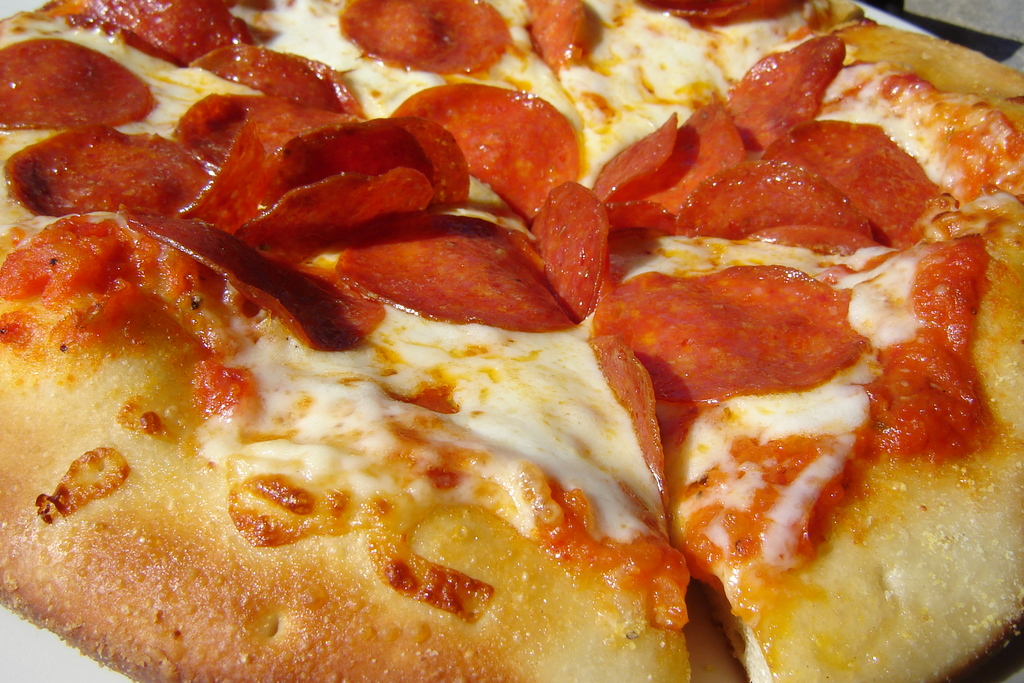Pizza: (0, 0, 1023, 675)
